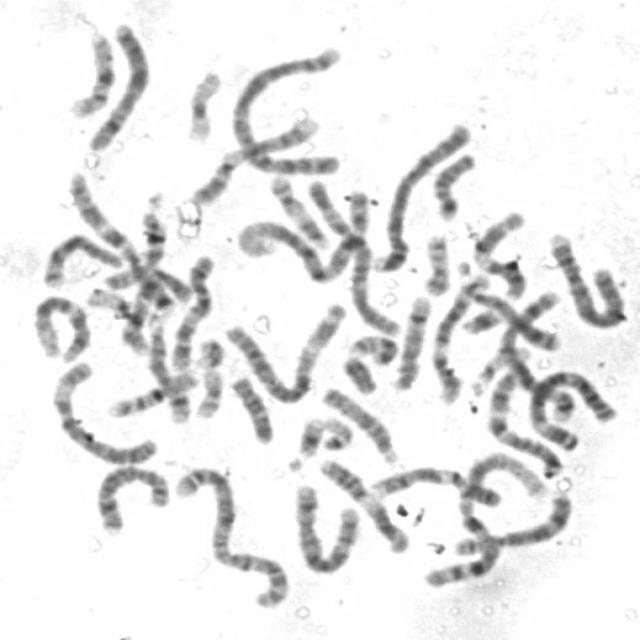A1: (419, 447, 560, 592), (235, 186, 372, 284)
A2: (166, 460, 292, 610), (224, 40, 346, 178)
A3: (218, 295, 350, 405), (523, 366, 619, 452)
B4: (367, 115, 476, 276), (542, 226, 629, 330)
B5: (492, 280, 580, 425), (290, 478, 362, 576)
C10: (116, 264, 192, 358), (166, 250, 218, 373)
C11: (315, 452, 413, 556), (466, 207, 532, 300)
C12: (423, 267, 491, 407), (27, 290, 94, 363)
C6: (301, 174, 404, 338), (43, 356, 160, 466)
C7: (61, 166, 182, 317), (481, 360, 561, 478)
C8: (447, 488, 572, 557), (89, 460, 171, 538)
C9: (186, 110, 320, 208), (365, 461, 506, 509)
D13: (453, 277, 562, 352), (38, 229, 126, 291)
D14: (139, 302, 195, 426), (388, 291, 436, 392)
D15: (316, 380, 403, 466), (96, 263, 196, 304)
E16: (101, 365, 202, 419), (65, 24, 120, 120)
E17: (265, 170, 332, 250), (192, 332, 232, 423)
E18: (428, 146, 481, 222), (225, 370, 278, 445)
F19: (180, 64, 227, 144), (83, 284, 148, 324)
F20: (417, 228, 452, 298), (344, 330, 400, 367)
G21: (280, 412, 327, 472), (456, 302, 506, 336)
G22: (462, 339, 536, 396), (316, 410, 356, 452)
X: (80, 17, 154, 153)
Y: (339, 350, 382, 396)
